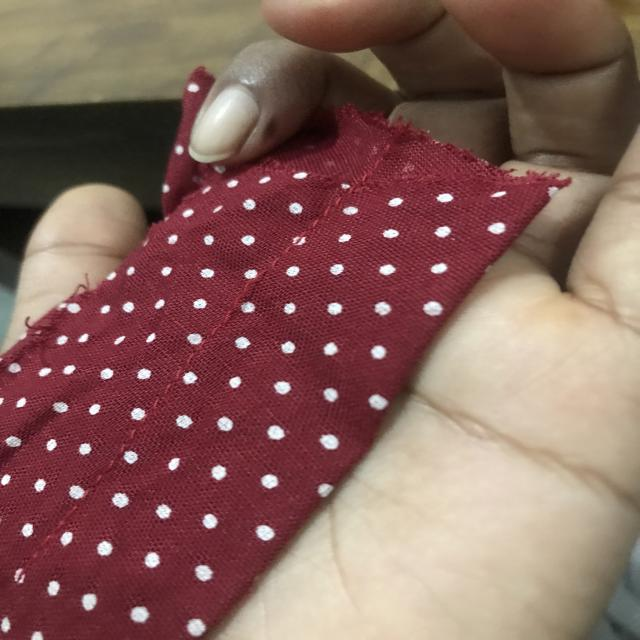broken: (235, 256, 266, 321)
